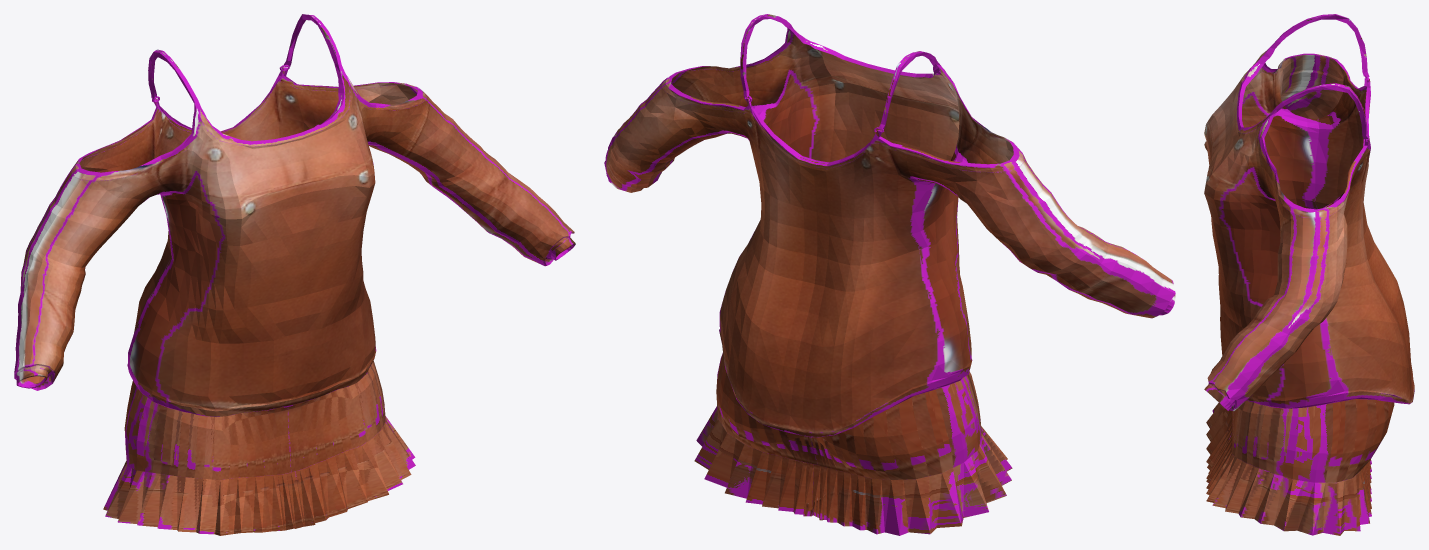
The picture shows the model from 3 angles, left to right: view 1: azimuth 30°, elevation 25°; view 2: azimuth 150°, elevation 25°; view 3: azimuth 270°, elevation 25°; orthographic projection. The views are drawn at different scales.
Size of the model in its own units: 1.17 by 0.9236 by 0.4016.
1 material, 1 textured.
